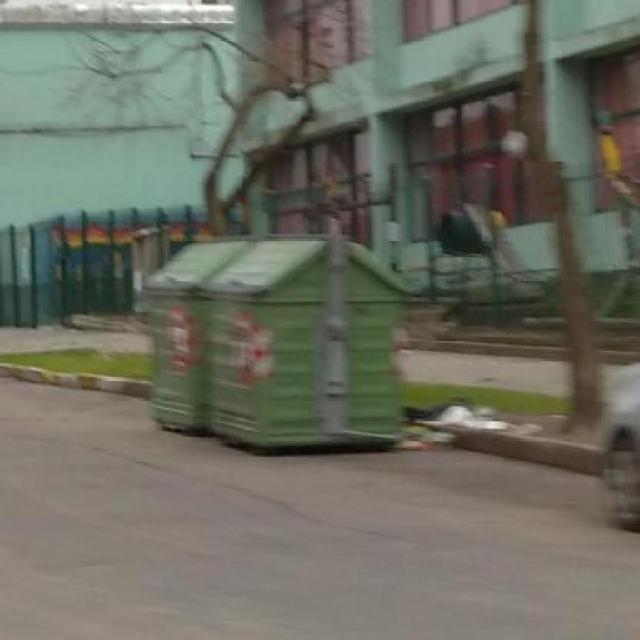garbage: (396, 389, 542, 469)
